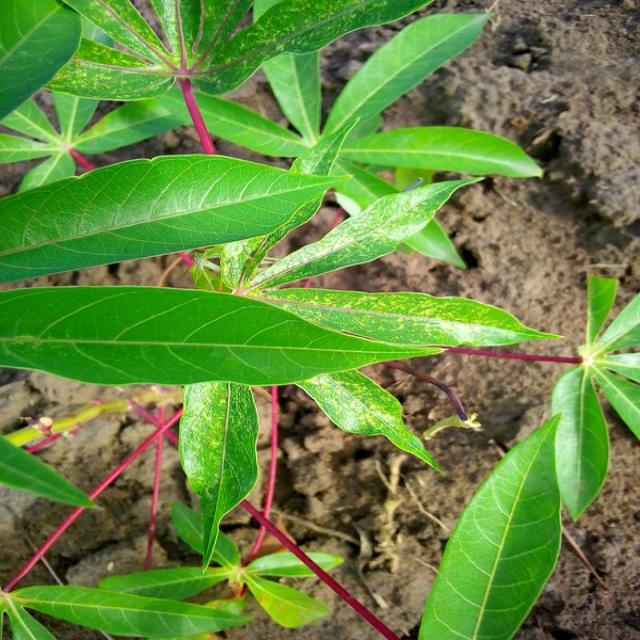cassava leaf: (1, 283, 566, 387), (1, 151, 349, 284), (418, 411, 564, 638), (178, 380, 260, 570)
